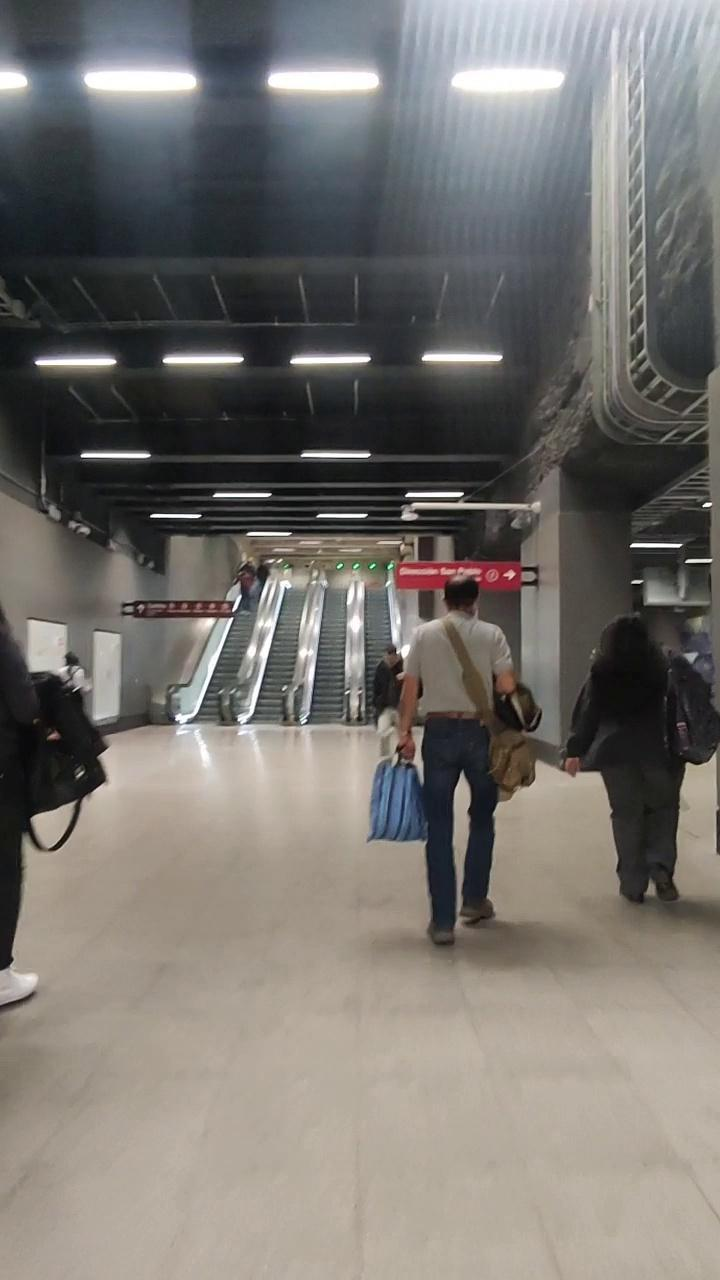right arrow: (503, 566, 517, 584)
up arrow: (137, 603, 146, 616)
